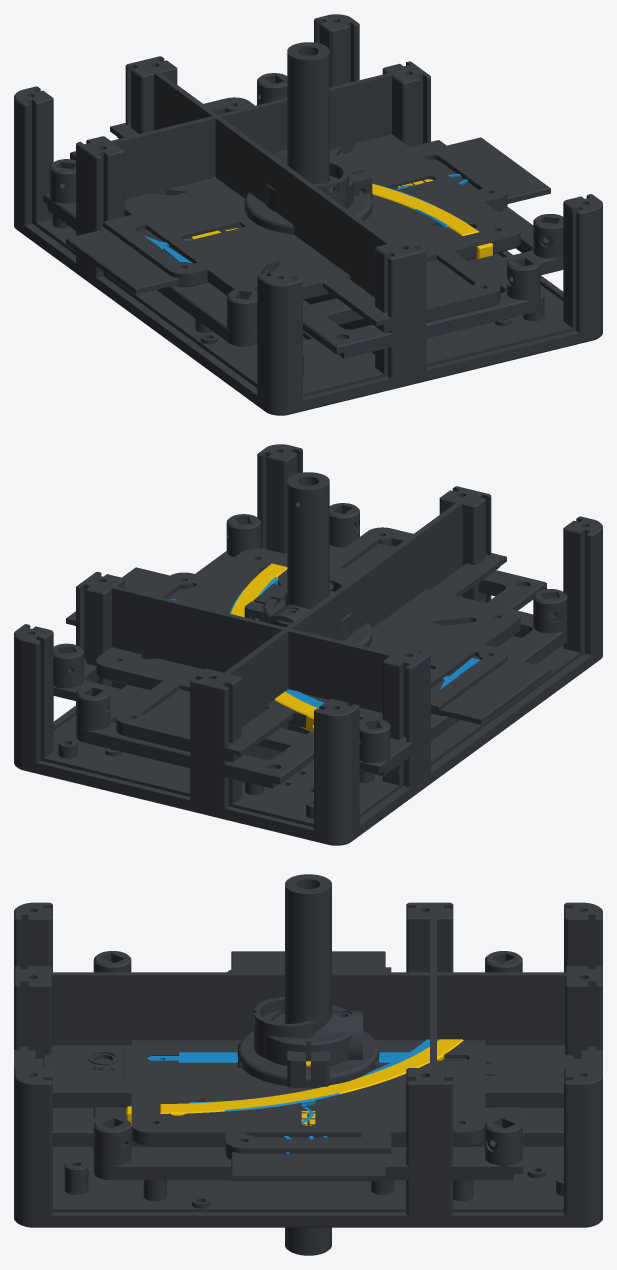
File: stem-boxes.glb
3 renders of one model, top to bottom at view 1: azimuth 30°, elevation 25°; view 2: azimuth 150°, elevation 25°; view 3: azimuth 270°, elevation 25°, orthographic. The views are drawn at different scales.
Parts seen in each view (by area): view 1: S01, W01, S07, W09:body, S08, W08, W07, W04:body, W20, S09:body, S11:body, S10#1 (+3 smaller); view 2: S01, W01, S07, S08, W08, W09:body, W20, W04:body, W07, S09:body, W05, S10#1 (+2 smaller); view 3: S01, W01, S07, S08, W20, W09:body, W04:body, W05, W07, S09:body, S10#1, W07T (+6 smaller).
Part boxes in pixels (left/top/right/bottom): S01: left=14, top=14, right=602, bottom=415; W01: left=15, top=14, right=602, bottom=415; S07: left=124, top=134, right=520, bottom=300; W09:body: left=110, top=97, right=500, bottom=332; S08: left=43, top=159, right=563, bottom=346; W08: left=70, top=73, right=540, bottom=358; W07: left=129, top=143, right=487, bottom=281; W04:body: left=66, top=137, right=550, bottom=294; W20: left=287, top=42, right=329, bottom=183; S09:body: left=103, top=140, right=507, bottom=286; S11:body: left=244, top=192, right=372, bottom=234; S10#1: left=372, top=184, right=492, bottom=258; S01: left=14, top=444, right=602, bottom=845; W01: left=14, top=444, right=601, bottom=845; S07: left=96, top=548, right=520, bottom=727; S08: left=53, top=514, right=567, bottom=776; W08: left=76, top=503, right=546, bottom=788; W09:body: left=116, top=527, right=506, bottom=762; W20: left=287, top=472, right=329, bottom=609; W04:body: left=66, top=567, right=550, bottom=724; W07: left=176, top=573, right=487, bottom=687; S09:body: left=146, top=572, right=507, bottom=716; W05: left=144, top=544, right=394, bottom=729; S10#1: left=231, top=563, right=318, bottom=732; S01: left=16, top=902, right=600, bottom=1227; W01: left=14, top=905, right=602, bottom=1224; S07: left=131, top=1040, right=485, bottom=1146; S08: left=93, top=951, right=523, bottom=1180; W20: left=285, top=874, right=331, bottom=1255; W09:body: left=14, top=1046, right=602, bottom=1107; W04:body: left=231, top=951, right=385, bottom=1181; W05: left=43, top=1045, right=573, bottom=1083; W07: left=205, top=1040, right=411, bottom=1146; S09:body: left=225, top=967, right=391, bottom=1159; S10#1: left=126, top=1039, right=463, bottom=1126; W07T: left=263, top=1005, right=351, bottom=1087.
Bounding box in the file's own units: 0.225 × 0.1696 × 0.25.
